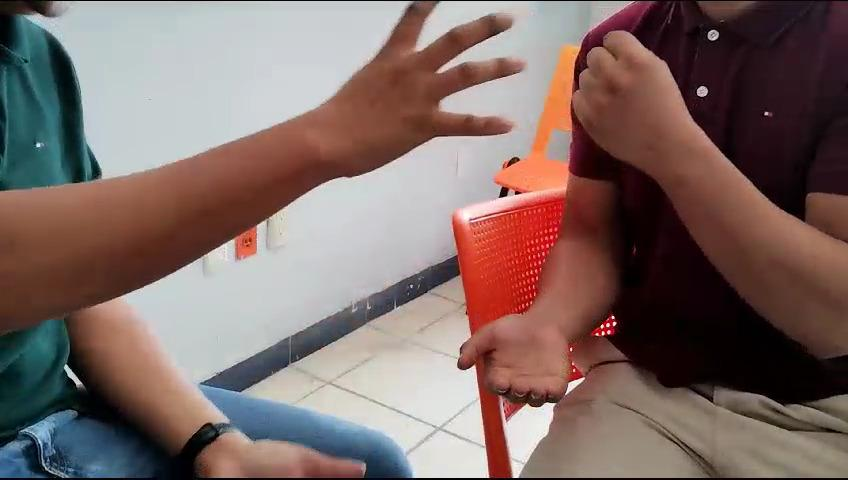Paper: (273, 1, 539, 200)
Stone: (565, 20, 704, 183)
